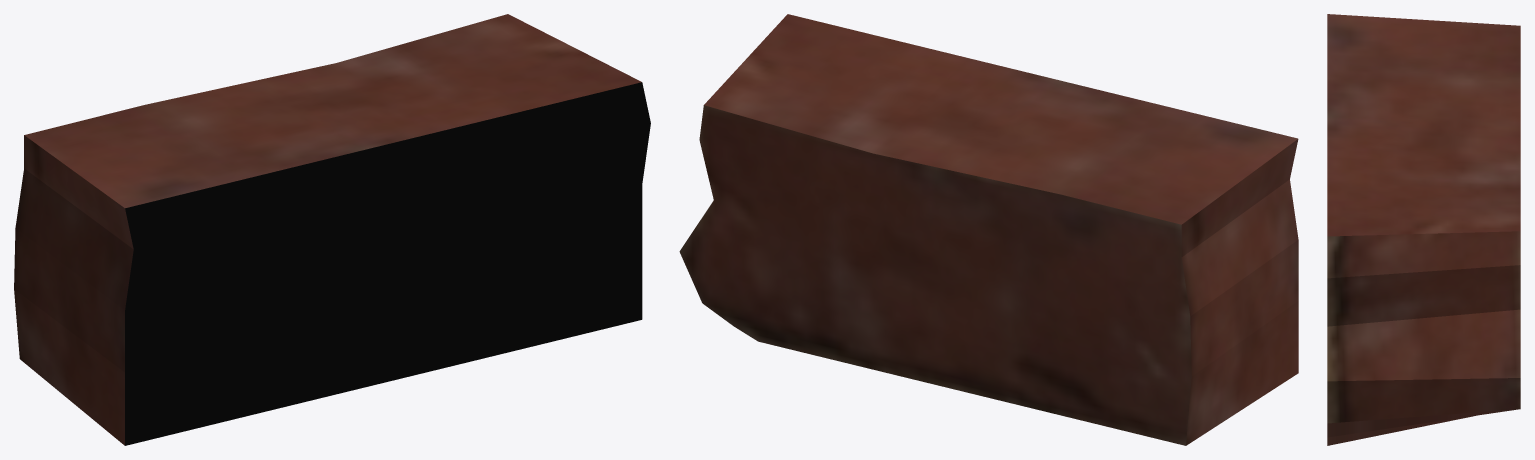
File: BrickButton.fbx
3 renders of one model, left to right at view 1: azimuth 30°, elevation 25°; view 2: azimuth 150°, elevation 25°; view 3: azimuth 270°, elevation 25°, orthographic. The views are drawn at different scales.
Parts seen in each view (by area): view 1: Cube.193; view 2: Cube.193; view 3: Cube.193.
Part boxes in pixels (x1,y1,x2,y2): Cube.193: (14,14,650,445); Cube.193: (679,14,1298,445); Cube.193: (1327,14,1520,445).
Bounding box in the file's own units: 0.0973 × 0.2702 × 0.1164.
2 materials, 1 textured.
